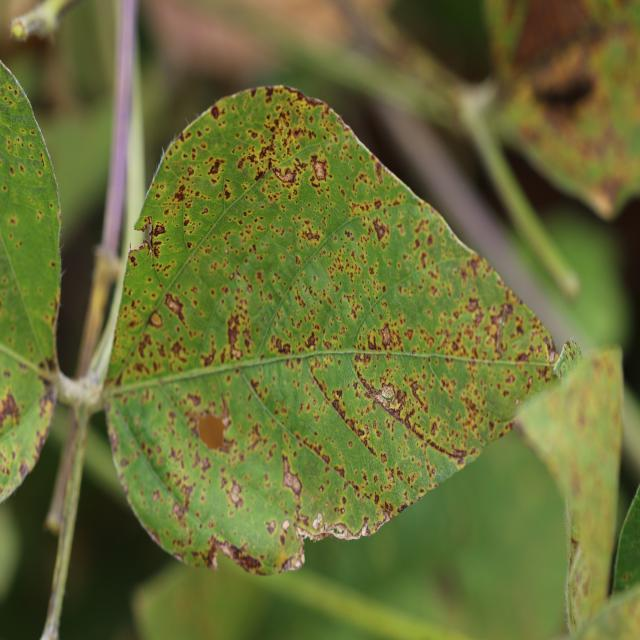Bacterial_Blight: (191, 393, 242, 463), (211, 535, 274, 573), (265, 85, 333, 116), (434, 314, 478, 358), (357, 317, 402, 359), (307, 514, 364, 543), (490, 301, 514, 358), (553, 339, 584, 382), (139, 215, 166, 260), (10, 13, 47, 42), (173, 471, 198, 512), (488, 412, 521, 443), (281, 451, 303, 497), (0, 388, 21, 431), (226, 312, 245, 358), (367, 384, 399, 410), (164, 292, 185, 324), (308, 153, 330, 183), (270, 165, 299, 187), (199, 335, 217, 367), (202, 541, 221, 570), (271, 335, 292, 356), (372, 217, 388, 242), (38, 355, 57, 376), (542, 333, 557, 359), (410, 380, 425, 402), (207, 158, 224, 177), (147, 309, 163, 328), (466, 296, 481, 314), (173, 183, 186, 203), (449, 447, 469, 460), (304, 332, 317, 350), (312, 512, 324, 530), (265, 519, 277, 535), (333, 465, 345, 479), (570, 532, 580, 548), (254, 169, 266, 182), (281, 518, 291, 533), (210, 105, 220, 119), (396, 503, 408, 514), (621, 572, 633, 582), (40, 152, 46, 168), (9, 216, 17, 226), (527, 375, 533, 387), (230, 272, 236, 281), (514, 398, 520, 406), (10, 167, 15, 175), (50, 261, 55, 269)
Soybean: (101, 86, 580, 575)
